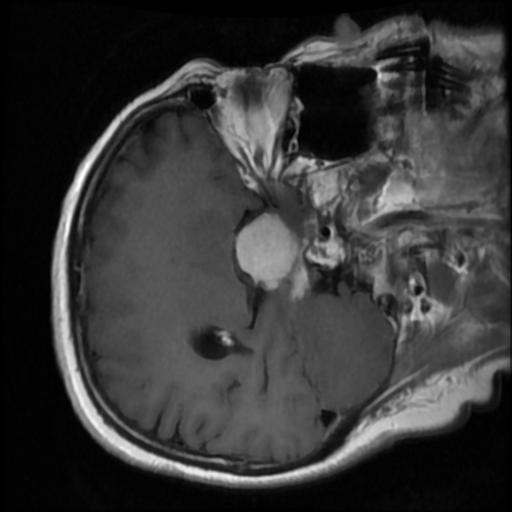meningioma: (234, 214, 299, 289)
